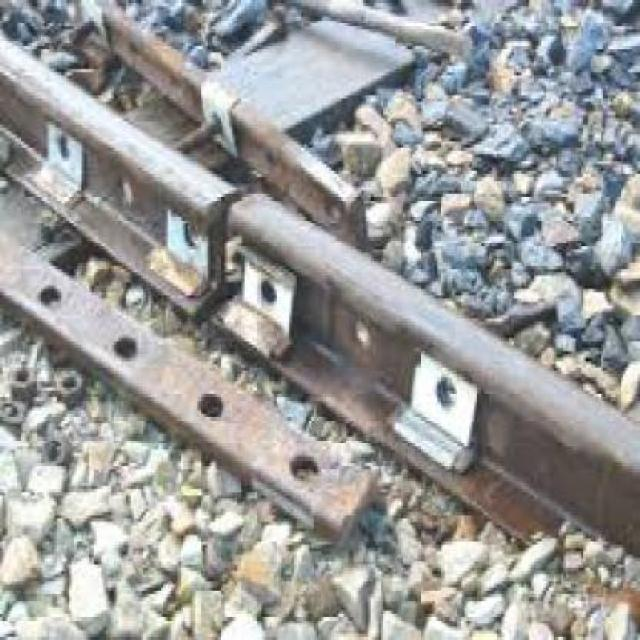non-defective: (1, 5, 637, 568)
